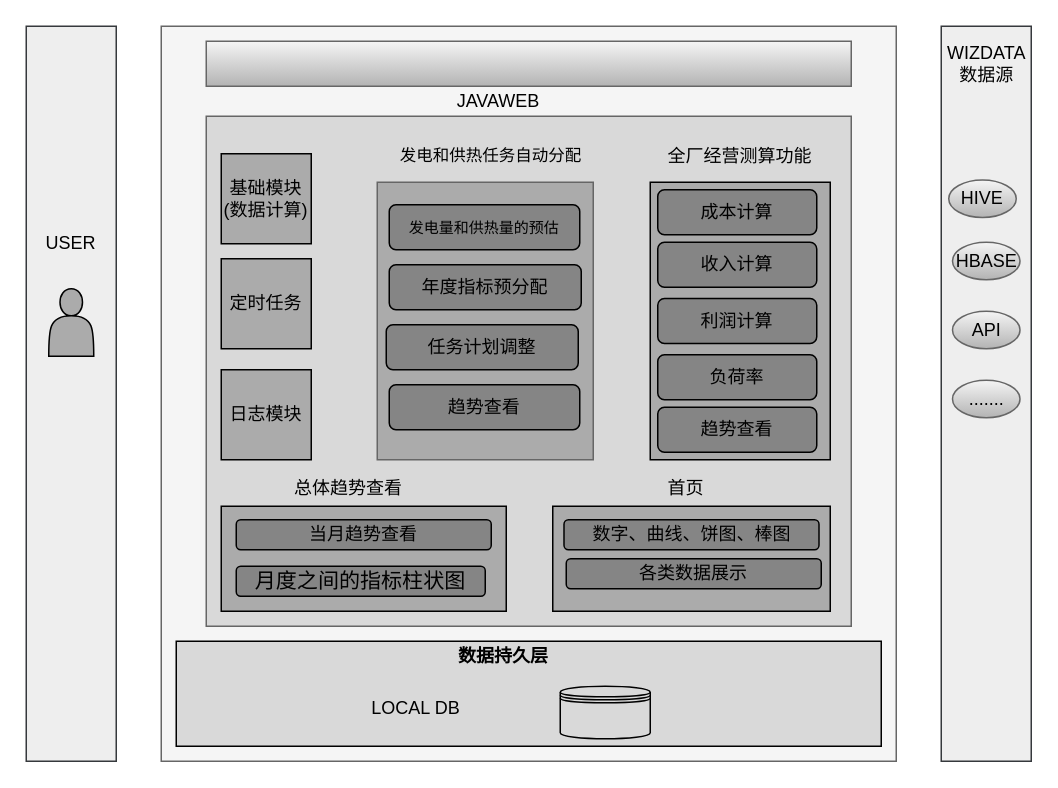
Image size: 1058x788. Some labels were removed from this diagram. The shapes that lost their labels are listed below. From the top down, each one's centre as x and y in pixels, then its label:
At (x=528, y=63): "EASC AUTH".
At (x=604, y=712): "MYSQL".
